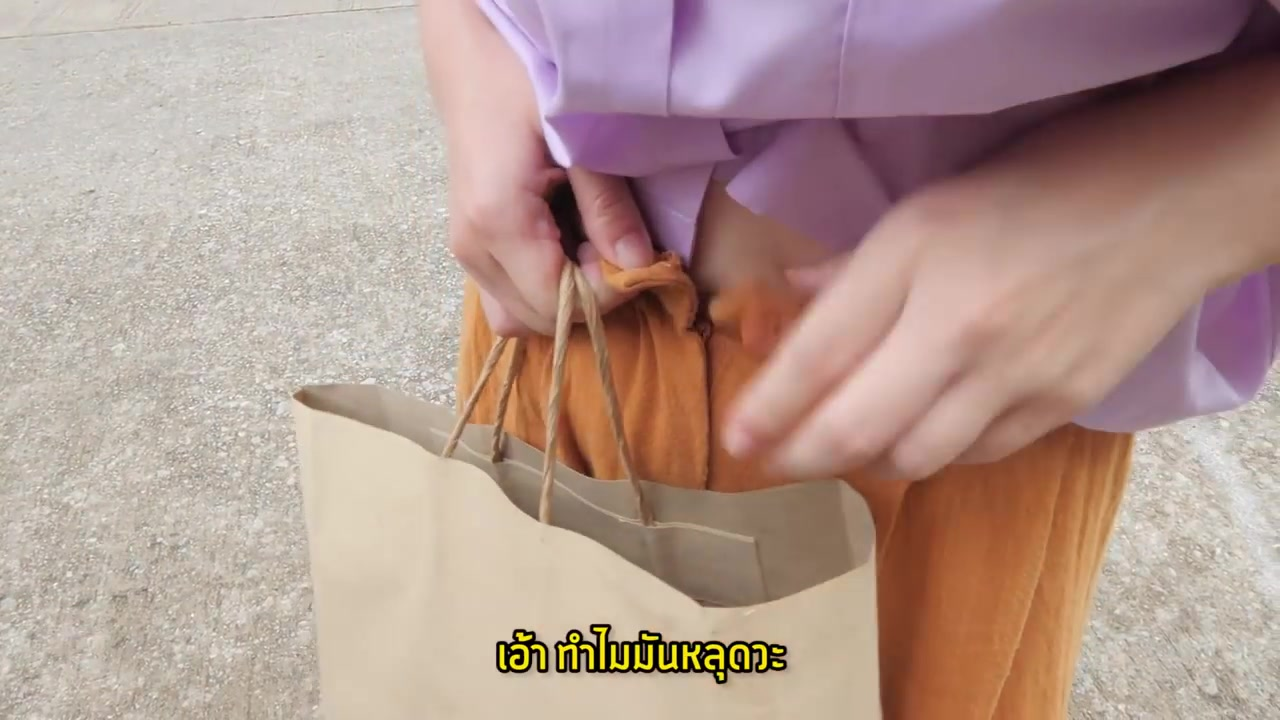text-label: (493, 623, 787, 686)
